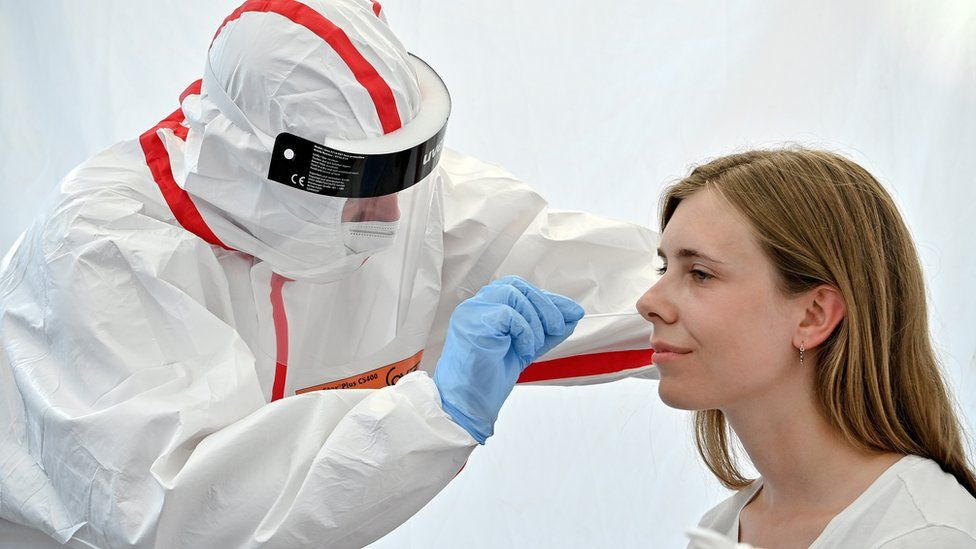Coverall: (2, 2, 625, 549), (1, 2, 609, 549)
Face_Shield: (251, 49, 452, 323)
Gloves: (434, 270, 586, 454)
with_mask: (333, 183, 402, 274)
without_mask: (633, 230, 752, 418)
